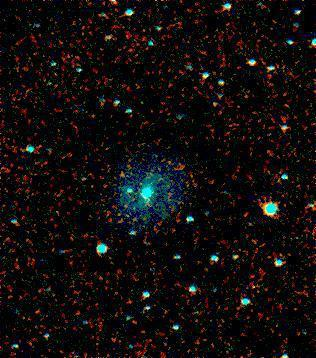star: (106, 163, 136, 193)
